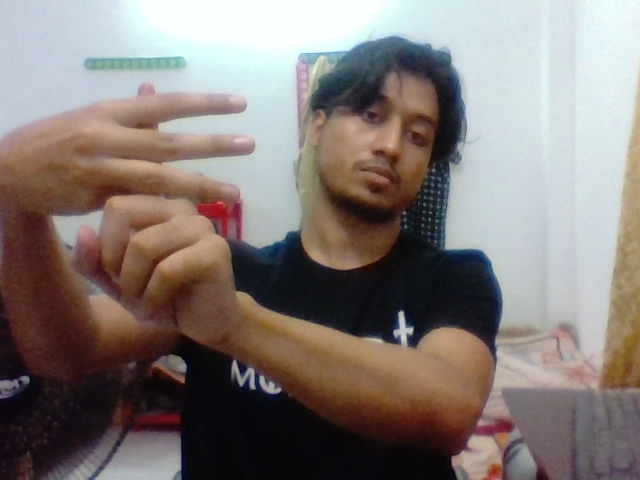E: (79, 75, 265, 325)
